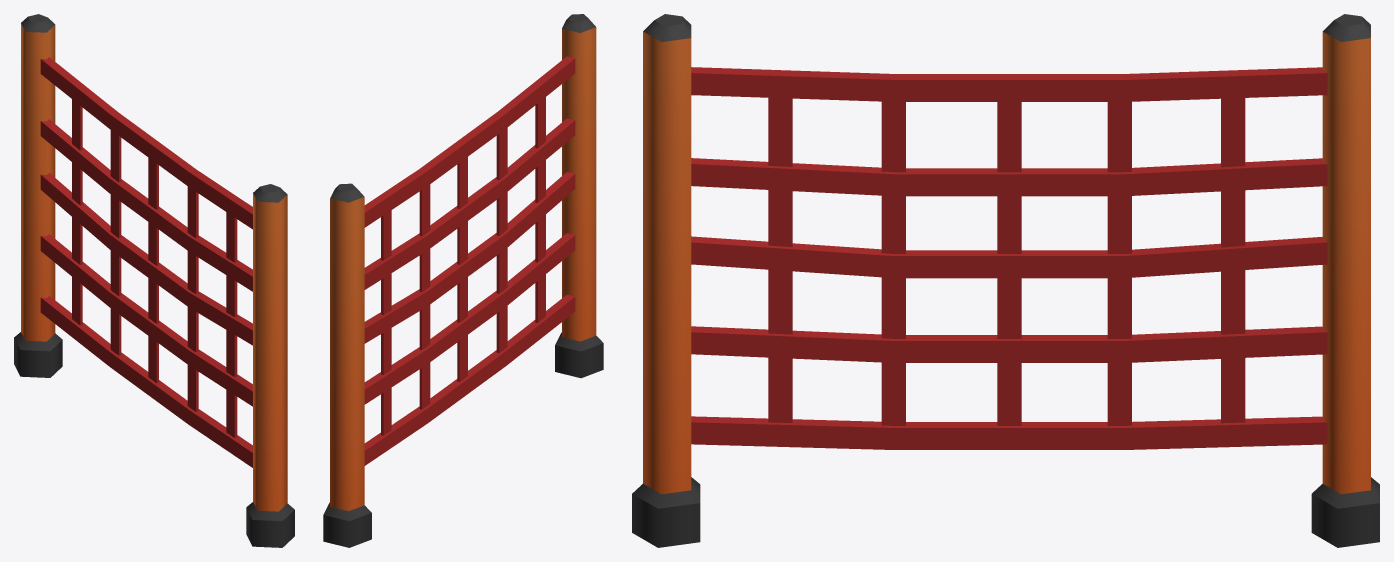
File: Barier_3_1.fbx
3 renders of one model, left to right at view 1: azimuth 30°, elevation 25°; view 2: azimuth 150°, elevation 25°; view 3: azimuth 270°, elevation 25°, orthographic. The views are drawn at different scales.
Visible parts, largest first — view 1: Barier_3_1; view 2: Barier_3_1; view 3: Barier_3_1.
Part boxes in pixels (x1,y1,x2,y2): Barier_3_1: (14, 14, 294, 547); Barier_3_1: (323, 14, 603, 547); Barier_3_1: (632, 14, 1379, 547).
Bounding box in the file's own units: 10.55 × 83.23 × 110.
